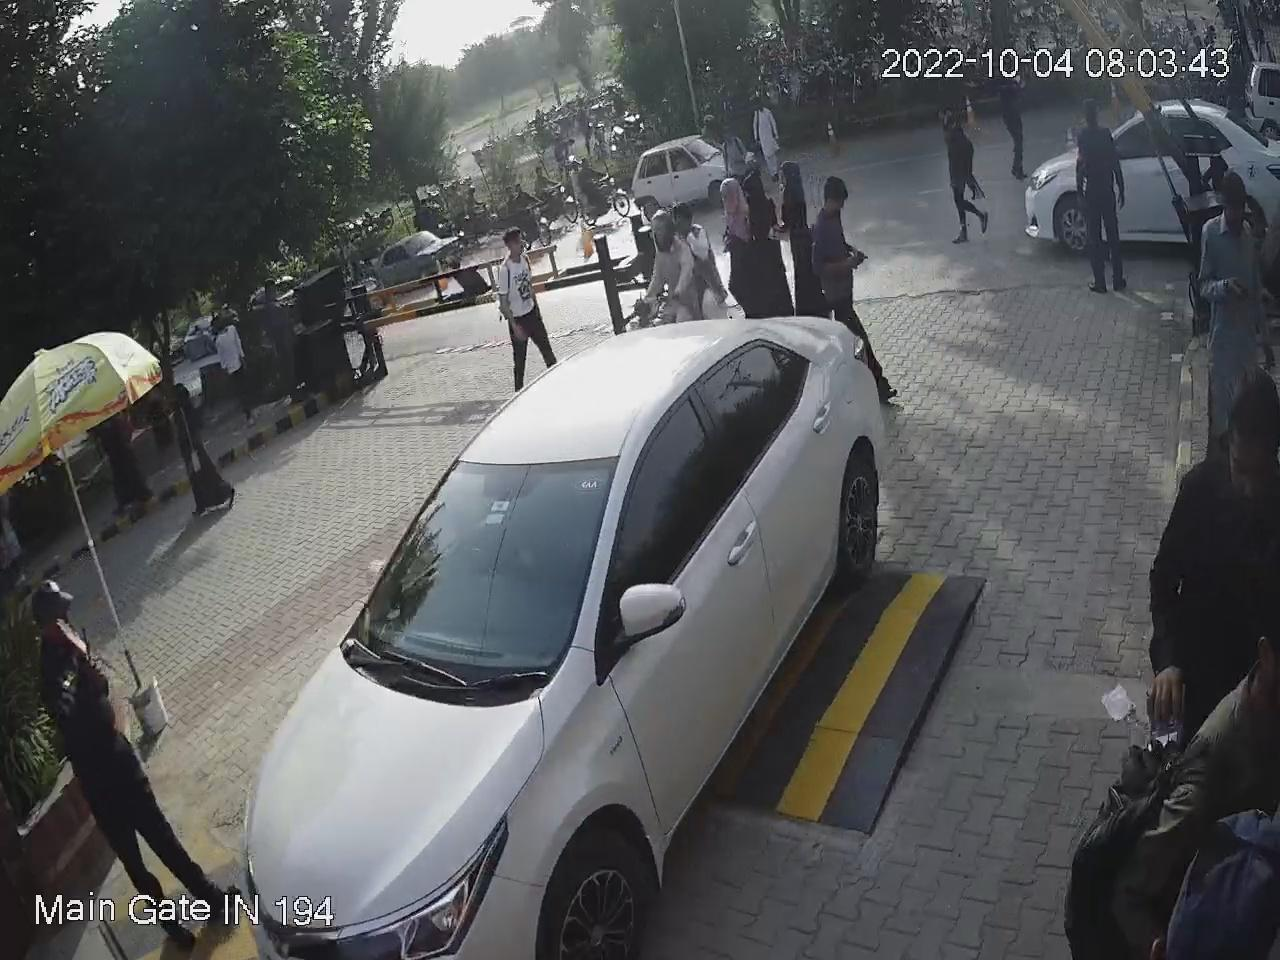windshield: (346, 448, 633, 698)
